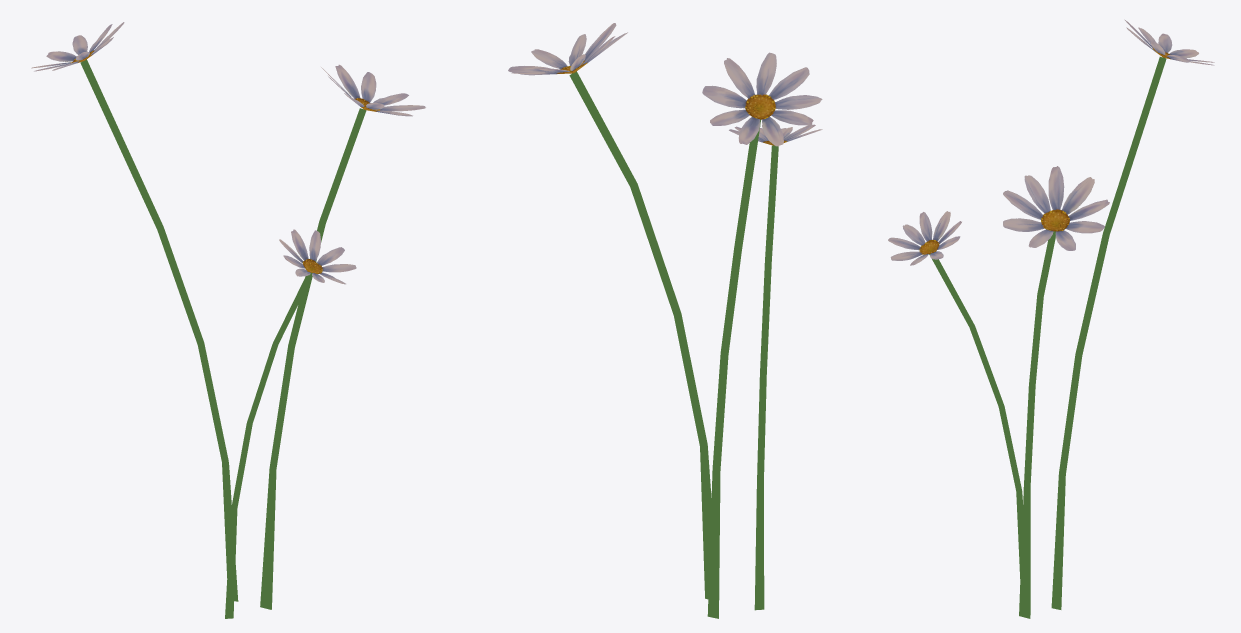
The model's file is SM_Flower_05_01.fbx.
3 renders of one model, left to right at view 1: azimuth 30°, elevation 25°; view 2: azimuth 150°, elevation 25°; view 3: azimuth 270°, elevation 25°, orthographic. The views are drawn at different scales.
Parts seen in each view (by area): view 1: SM_Flower_05_01_LOD0; view 2: SM_Flower_05_01_LOD0; view 3: SM_Flower_05_01_LOD0.
Boxes of the visible parts, x1,y1,x2,y2 form: SM_Flower_05_01_LOD0: (31, 22, 425, 618); SM_Flower_05_01_LOD0: (508, 23, 822, 618); SM_Flower_05_01_LOD0: (888, 19, 1214, 618).
Size of what is drawn, in the model's own units: 42.71 by 65.92 by 37.56.
